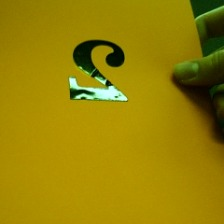orange2: (56, 34, 137, 108)
